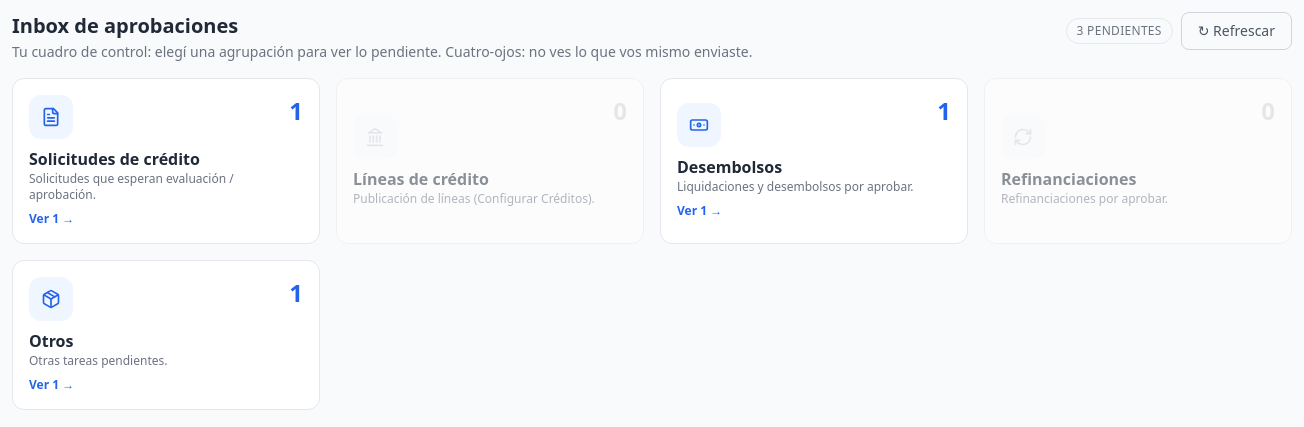
Inbox de aprobaciones › entrar a un grupo lista sus tareas y se puede volver al panel
This screenshot has width=1304, height=427.
Step 1. Click the button "Solicitudes de crédito" → (166, 161), box top-left (12, 78), bottom-right (320, 244)
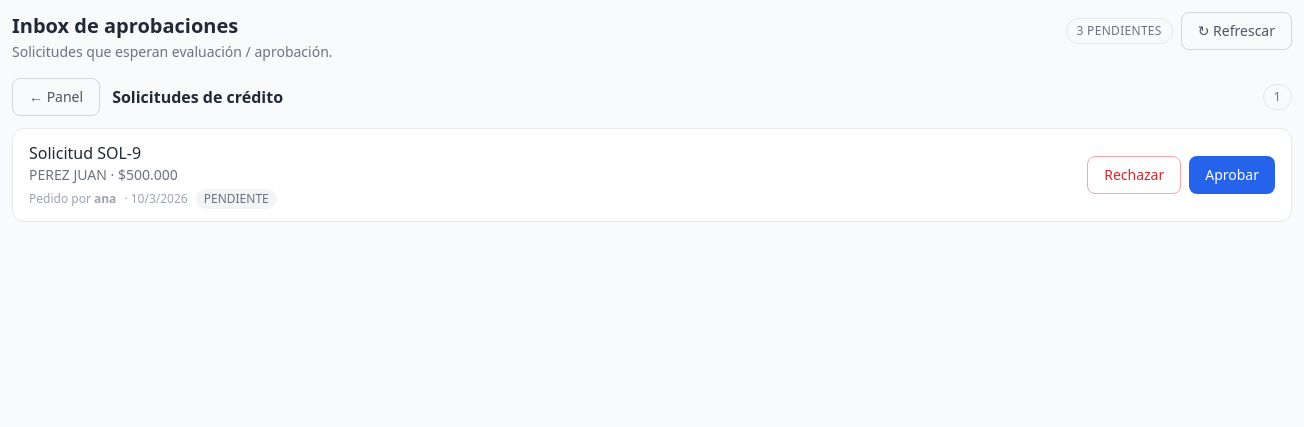
Now the text "Solicitud SOL-9" is shown, box top-left (29, 142), bottom-right (141, 164)
Step 2. Click the button "← Panel" → (56, 97), box top-left (12, 78), bottom-right (100, 116)
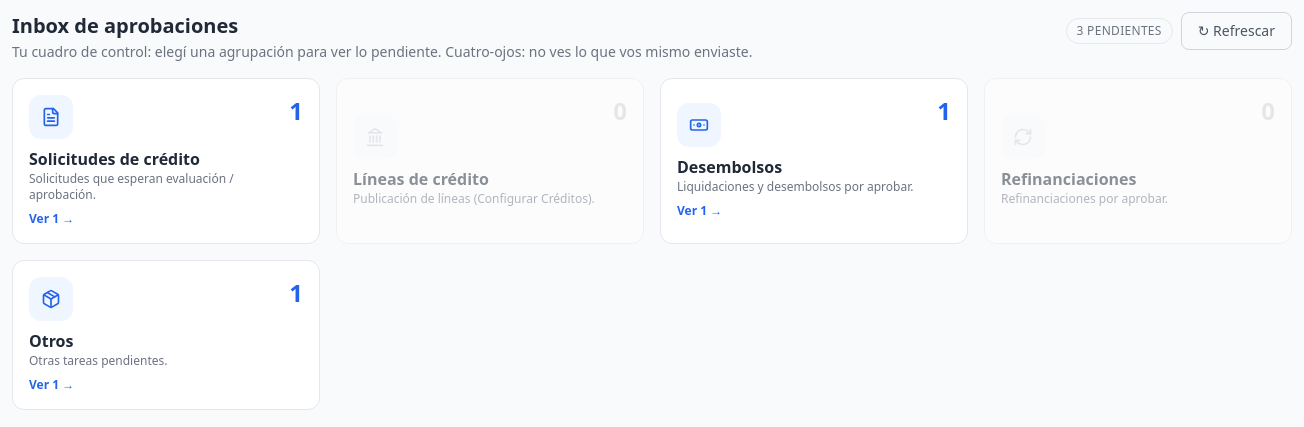
Now the text "Desembolsos" is shown, box top-left (677, 156), bottom-right (782, 178)
